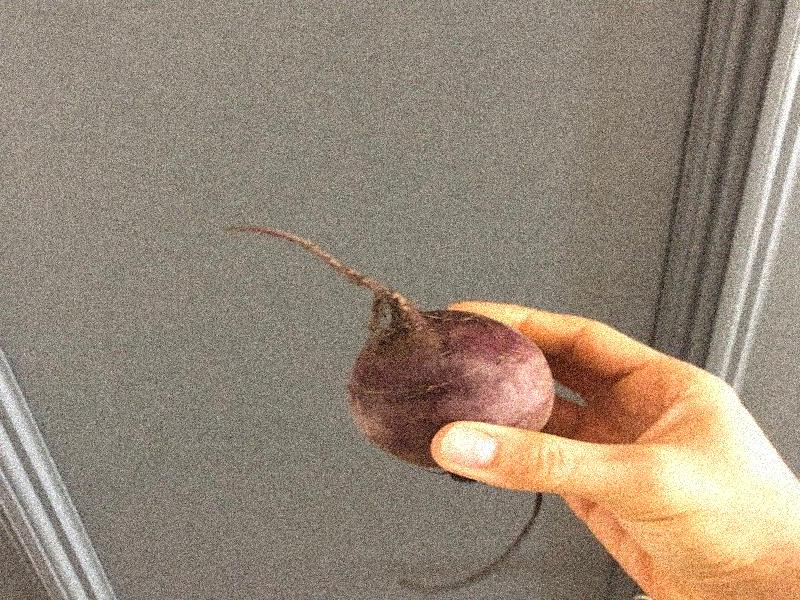Beet: (222, 227, 553, 592)
